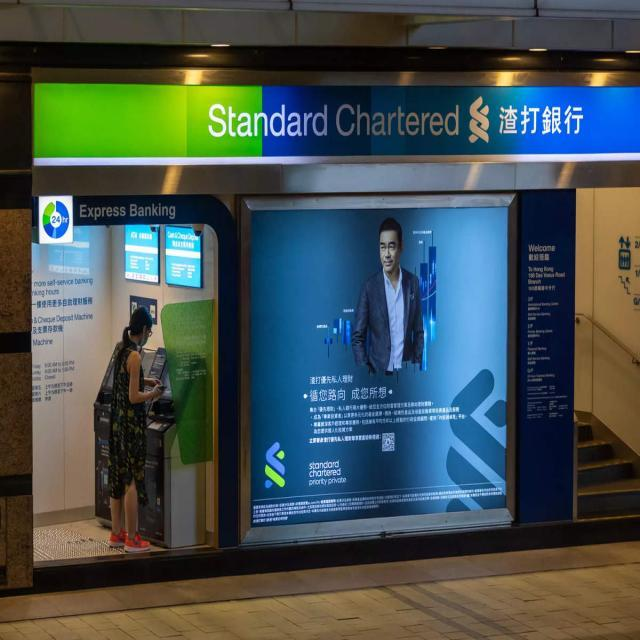Standard Chartered: (207, 94, 490, 144), (446, 367, 507, 514), (263, 440, 286, 490)
